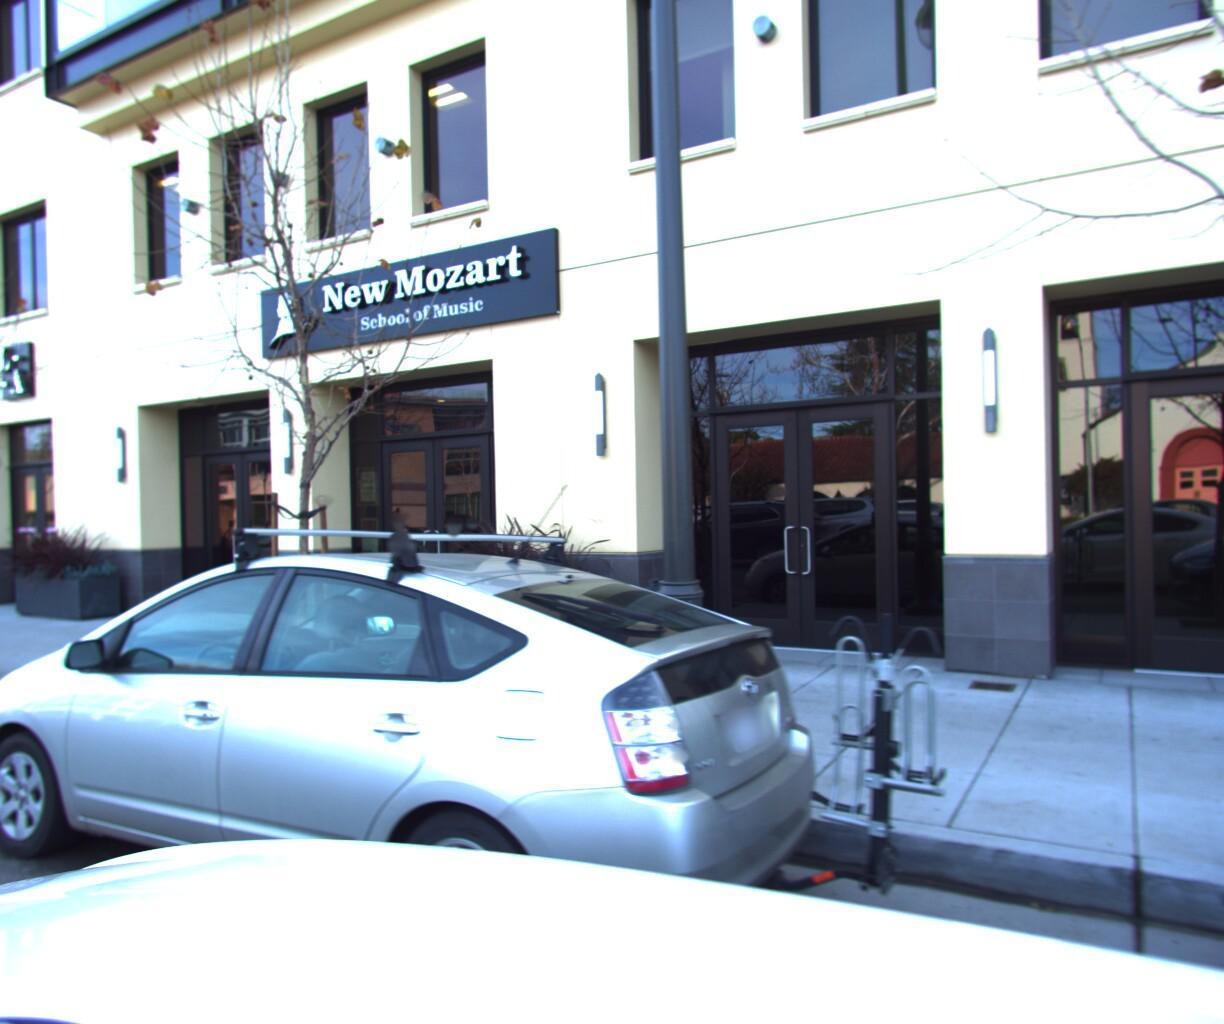car: (0, 482, 977, 1024)
